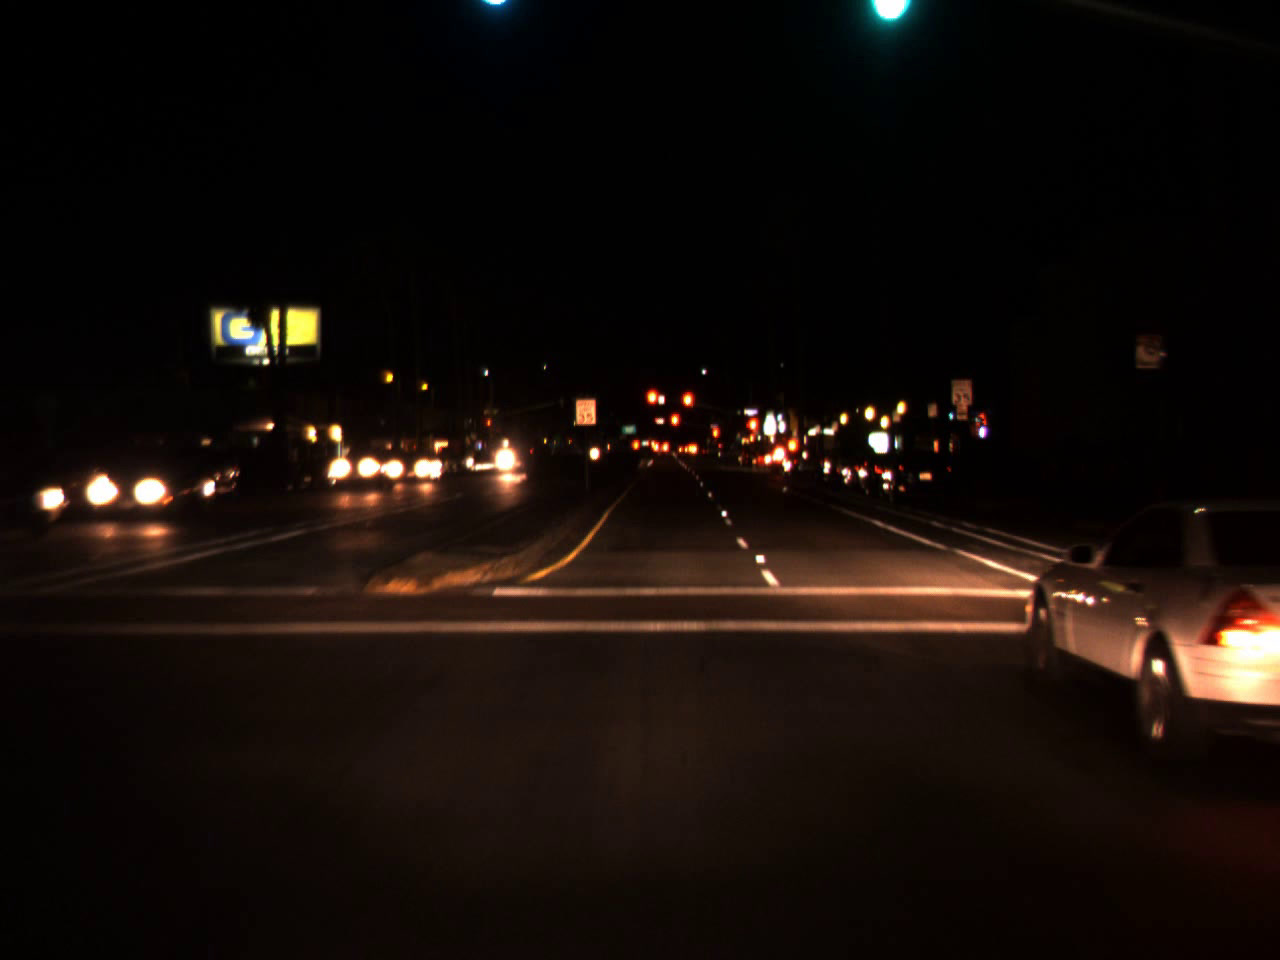go: (862, 0, 908, 32)
stop: (643, 386, 662, 423), (744, 414, 760, 451), (680, 389, 695, 424), (669, 411, 681, 443), (711, 425, 720, 452), (486, 418, 492, 434)
